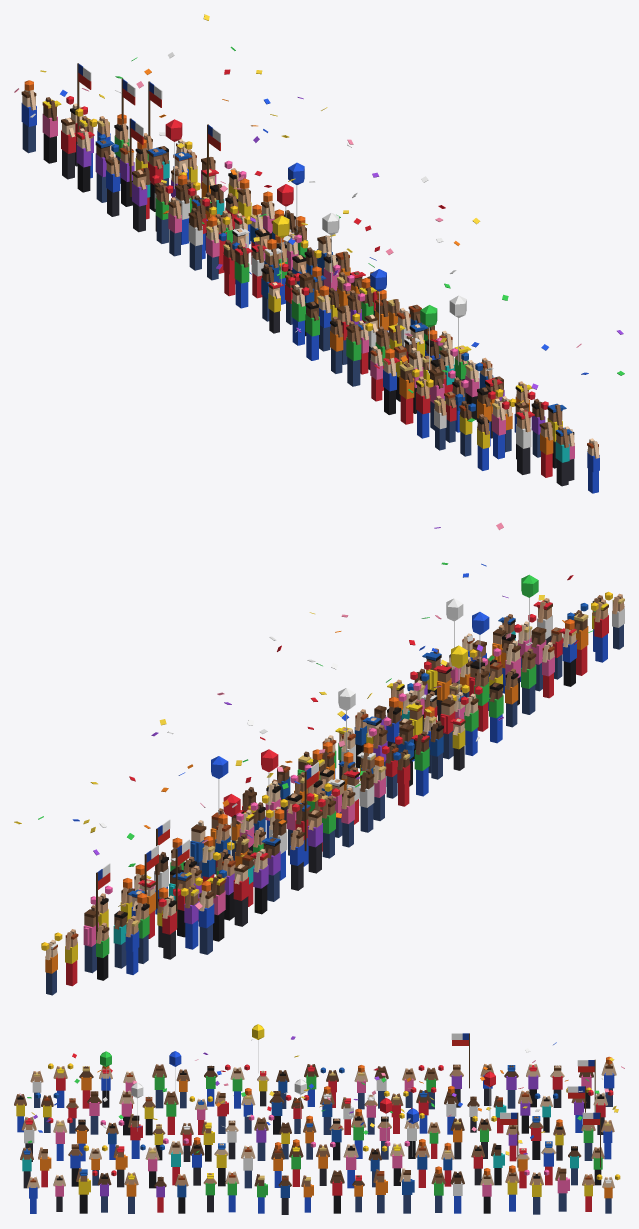
The model's file is ninos_graderia_3.obj.
3 views of the same model, one above another, from view 1: azimuth 30°, elevation 25°; view 2: azimuth 150°, elevation 25°; view 3: azimuth 270°, elevation 25° (orthographic). The views are drawn at different scales.
Parts seen in each view (by area): view 1: ninos_graderia_3; view 2: ninos_graderia_3; view 3: ninos_graderia_3.
Part boxes in pixels (x1,y1,x2,y2): ninos_graderia_3: (14,14,624,493); ninos_graderia_3: (14,522,624,995); ninos_graderia_3: (14,1024,624,1214).
Size of the model in its own units: 4.81 by 4.51 by 18.24.
